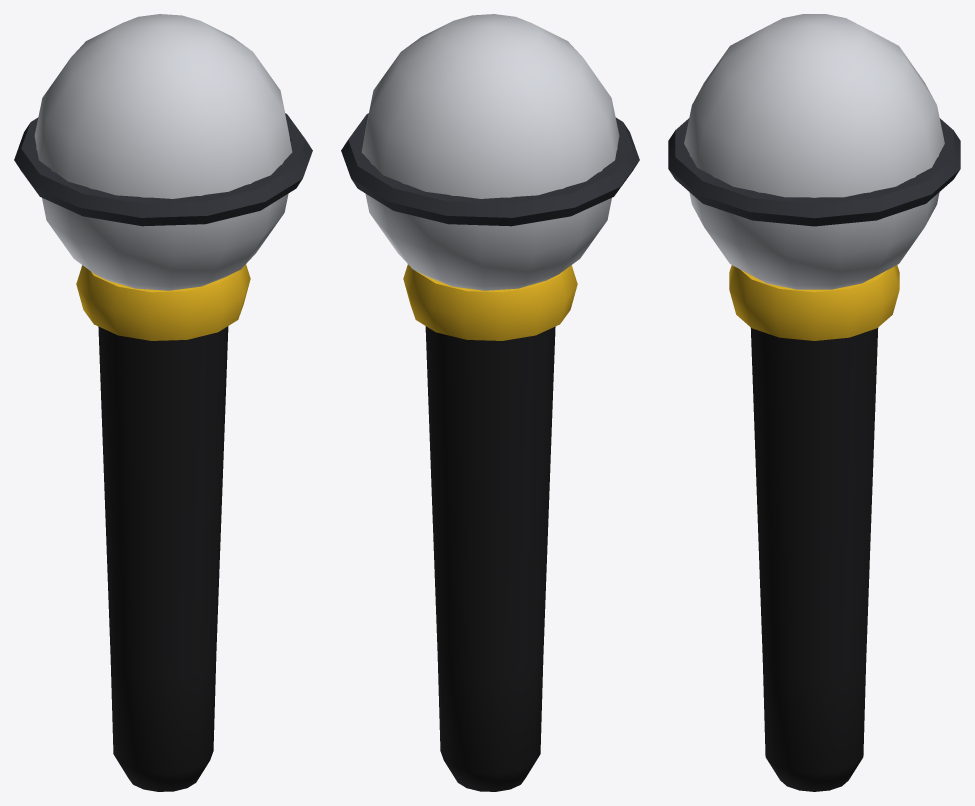
The model's file is AnnouncerMic_01.glb.
3 views of the same model, side by side, from view 1: azimuth 30°, elevation 25°; view 2: azimuth 150°, elevation 25°; view 3: azimuth 270°, elevation 25° (orthographic).
Parts seen in each view (by area): view 1: AnnouncerMic_Handle, AnnouncerMic_Head, AnnouncerMic_Band, AnnouncerMic_Collar; view 2: AnnouncerMic_Handle, AnnouncerMic_Head, AnnouncerMic_Band, AnnouncerMic_Collar; view 3: AnnouncerMic_Handle, AnnouncerMic_Head, AnnouncerMic_Band, AnnouncerMic_Collar.
Part boxes in pixels (x1,y1,x2,y2): AnnouncerMic_Handle: (98, 326, 228, 791); AnnouncerMic_Head: (34, 14, 292, 290); AnnouncerMic_Band: (14, 113, 312, 226); AnnouncerMic_Collar: (76, 264, 250, 340); AnnouncerMic_Handle: (425, 326, 555, 791); AnnouncerMic_Head: (361, 14, 619, 290); AnnouncerMic_Band: (341, 113, 639, 226); AnnouncerMic_Collar: (403, 264, 577, 340); AnnouncerMic_Handle: (750, 328, 878, 791); AnnouncerMic_Head: (684, 14, 944, 289); AnnouncerMic_Band: (668, 118, 960, 226); AnnouncerMic_Collar: (729, 265, 899, 340).
Bounding box in the file's own units: 0.418 × 1.17 × 0.4075.
